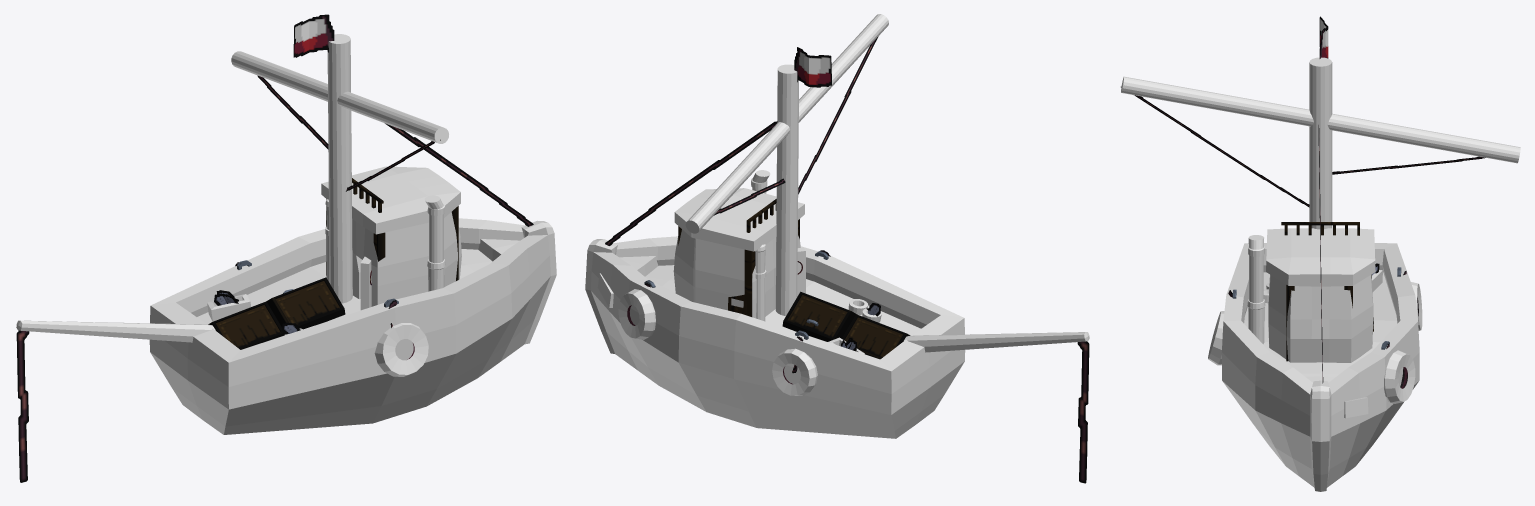
The model's file is kuter.fbx.
3 renders of one model, left to right at view 1: azimuth 30°, elevation 25°; view 2: azimuth 150°, elevation 25°; view 3: azimuth 270°, elevation 25°, orthographic. The views are drawn at different scales.
Parts seen in each view (by area): view 1: Cube; view 2: Cube; view 3: Cube.
Part boxes in pixels (x1,y1,x2,y2): Cube: [16, 14, 556, 482]; Cube: [585, 14, 1089, 483]; Cube: [1121, 16, 1520, 491].
Bounding box in the file's own units: 1341 × 960 × 884.
Materials: 2 (1 with a texture image).
